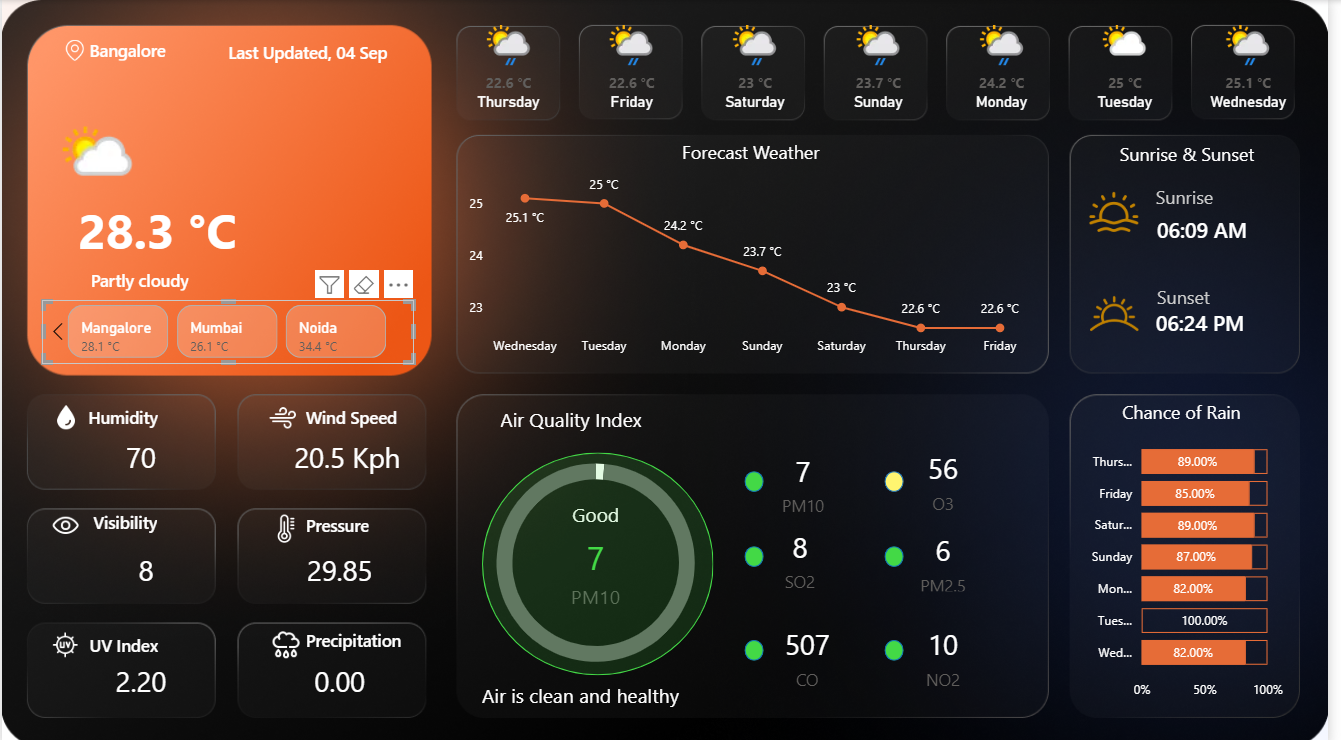

What the dashboard file says about the page in this screenshot:
{"tool":"powerbi","page":{"name":"Page 2","canvas":[1280,720],"ordinal":0},"visuals":[{"type":"advancedSlicerVisual","fields":{"Values":["Location.location.name"]},"box":[38.2,289.3,359.5,61.6],"z":0},{"type":"shape","box":[84.9,30.8,94.8,33.2],"z":1000},{"type":"shape","box":[67.7,189.6,165,64],"z":1000,"group":"g1"},{"type":"shape","box":[217.9,33.2,179.7,33.2],"z":2000},{"type":"shape","box":[1114.3,200.2,119.9,42.1],"z":2000,"group":"g2"},{"type":"shape","box":[85.4,253.4,248.7,33.2],"z":2000,"group":"g1"},{"type":"image","box":[55.4,33.2,29.5,29.5],"z":3000},{"type":"cardVisual","fields":{"Data":["Min(Current.current.condition.icon)"]},"box":[25.9,93.6,124.3,107.1],"z":4000},{"type":"group","id":"g1","title":"Group 1","box":[67.7,189.6,265.9,97.2],"z":5000},{"type":"image","box":[38.2,487.5,45.5,39.4],"z":6000},{"type":"shape","box":[88.6,487.5,82.5,33.2],"z":7000},{"type":"shape","box":[83.7,386.5,82.5,33.2],"z":8000},{"type":"image","box":[44.3,377.9,34.5,50.5],"z":9000},{"type":"image","box":[253.6,600.7,41.9,43.1],"z":10000},{"type":"image","box":[256.1,486.2,36.9,48],"z":11000},{"type":"image","box":[43.1,600.7,35.7,43.1],"z":12000},{"type":"image","box":[248.7,385.3,44.3,36.9],"z":13000},{"type":"shape","box":[293,385.3,104.6,34.5],"z":14000},{"type":"shape","box":[293,489.9,104.6,34.5],"z":15000},{"type":"shape","box":[84.9,605.7,82.5,33.2],"z":16000},{"type":"shape","box":[293,600.7,104.6,34.5],"z":17000},{"type":"card","fields":{"Values":["Sum(Current.current.humidity)"]},"box":[77.8,418.4,111.6,48.5],"z":18000},{"type":"card","fields":{"Values":["Current.Wind_Speed"]},"box":[270.2,418.4,126.3,48.5],"z":19000},{"type":"card","fields":{"Values":["Sum(Current.current.pressure_in)"]},"box":[270.2,527.1,111.6,48.5],"z":20000},{"type":"card","fields":{"Values":["Sum(Current.current.vis_km)"]},"box":[83.7,527.1,111.6,48.5],"z":21000},{"type":"card","fields":{"Values":["Sum(Current.current.uv)"]},"box":[77.8,634.3,111.6,48.5],"z":22000},{"type":"card","fields":{"Values":["Sum(Current.current.precip_in)"]},"box":[270.2,634.3,111.6,48.5],"z":23000},{"type":"lineChart","title":"Forecast Weather","fields":{"Y":["Sum(Forecast_Day.forecast.forecastday.day.avgtemp_c)"],"Category":["Forecast_Day.Day_Name"]},"box":[445.9,135.4,552.6,216.6],"z":24000},{"type":"advancedSlicerVisual","fields":{"Values":["Forecast_Day.Day_Name"]},"box":[428.7,10.3,838.4,114.5],"z":25000},{"type":"shape","box":[1056.4,131.7,173.9,32.9],"z":26000},{"type":"group","id":"g2","title":"Group 2","box":[1113,173.9,121.2,160.7],"z":27000},{"type":"image","box":[1027.4,266.1,90.9,72.4],"z":28000},{"type":"shape","box":[1113,289.8,119.9,44.8],"z":28000,"group":"g2"},{"type":"image","box":[1035.3,176.5,76.4,56.6],"z":29000},{"type":"shape","box":[1114.3,270.1,80.3,31.6],"z":29000,"group":"g2"},{"type":"shape","box":[1113,173.9,80.3,31.6],"z":30000,"group":"g2"},{"type":"hundredPercentStackedBarChart","title":"Chance of Rain","fields":{"Category":["Forecast_Day.Day_Name"],"Y":["Sum(Forecast_Day.forecast.forecastday.day.daily_chance_of_rain)","_Measures.Left_value_rain"]},"box":[1035.3,385.9,206.5,297.6],"z":30000},{"type":"shape","box":[445.8,387.4,207.9,34.2],"z":31000},{"type":"card","fields":{"Values":["Sum(Current.current.air_quality.o3)"]},"box":[861.6,423,94,81.2],"z":32000},{"type":"card","fields":{"Values":["Sum(Current.current.air_quality.no2)"]},"box":[861.6,601,94,66.9],"z":33000},{"type":"card","fields":{"Values":["Sum(Current.current.air_quality.pm2_5)"]},"box":[861.6,511.3,94,64.1],"z":34000},{"type":"card","fields":{"Values":["Sum(Current.current.air_quality.pm10)"]},"box":[726.3,425.8,94,81.2],"z":35000},{"type":"card","fields":{"Values":["Sum(Current.current.air_quality.co)"]},"box":[743.4,599.6,68.4,68.4],"z":36000},{"type":"card","fields":{"Values":["Sum(Current.current.air_quality.so2)"]},"box":[734.8,504.1,71.2,71.2],"z":37000},{"type":"shape","box":[716.3,454.3,18.5,19.9],"z":38000},{"type":"shape","box":[716.3,526.9,18.5,19.9],"z":39000},{"type":"shape","box":[716.3,618.1,18.5,19.9],"z":40000},{"type":"shape","box":[851.6,454.3,18.5,19.9],"z":41000},{"type":"shape","box":[851.6,526.9,18.5,19.9],"z":42000},{"type":"shape","box":[851.6,618.1,18.5,19.9],"z":43000},{"type":"card","fields":{"Values":["Sum(Current.current.air_quality.pm10)"]},"box":[521.2,484.2,104,111.1],"z":44000},{"type":"donutChart","fields":{"Y":["Sum(Current.current.air_quality.pm10)","_Measures.Left_value_PM10"]},"box":[434.4,418.7,277.7,249.2],"z":45000},{"type":"shape","box":[462.8,437.2,223.6,215],"z":46000},{"type":"shape","box":[462.8,643.7,294.8,54.1],"z":47000}]}

Visuals, with their boxes in screenshot pixels (x1, y1, x2, y2), scaled from the page's 1280x720 canvas onto the 1341x740 screenshot:
advancedSlicerVisual - Location.location.name: [40,297,417,361]
shape: [89,32,188,66]
shape: [71,195,244,261]
shape: [228,34,417,68]
shape: [1167,206,1293,249]
shape: [89,260,350,295]
image: [58,34,89,64]
cardVisual - Min(Current.current.condition.icon): [27,96,157,206]
"Group 1" group: [71,195,349,295]
image: [40,501,88,542]
shape: [93,501,179,535]
shape: [88,397,174,431]
image: [46,388,83,440]
image: [266,617,310,662]
image: [268,500,307,549]
image: [45,617,83,662]
image: [261,396,307,434]
shape: [307,396,417,431]
shape: [307,504,417,539]
shape: [89,623,175,657]
shape: [307,617,417,653]
card - Sum(Current.current.humidity): [82,430,198,480]
card - Current.Wind_Speed: [283,430,415,480]
card - Sum(Current.current.pressure_in): [283,542,400,592]
card - Sum(Current.current.vis_km): [88,542,205,592]
card - Sum(Current.current.uv): [82,652,198,702]
card - Sum(Current.current.precip_in): [283,652,400,702]
"Forecast Weather" lineChart: [467,139,1046,362]
advancedSlicerVisual - Forecast_Day.Day_Name: [449,11,1327,128]
shape: [1107,135,1289,169]
"Group 2" group: [1166,179,1293,344]
image: [1076,273,1172,348]
shape: [1166,298,1292,344]
image: [1085,181,1165,240]
shape: [1167,278,1252,310]
shape: [1166,179,1250,211]
"Chance of Rain" hundredPercentStackedBarChart: [1085,397,1301,702]
shape: [467,398,685,433]
card - Sum(Current.current.air_quality.o3): [903,435,1001,518]
card - Sum(Current.current.air_quality.no2): [903,618,1001,686]
card - Sum(Current.current.air_quality.pm2_5): [903,526,1001,591]
card - Sum(Current.current.air_quality.pm10): [761,438,859,521]
card - Sum(Current.current.air_quality.co): [779,616,850,687]
card - Sum(Current.current.air_quality.so2): [770,518,844,591]
shape: [750,467,770,487]
shape: [750,542,770,562]
shape: [750,635,770,656]
shape: [892,467,912,487]
shape: [892,542,912,562]
shape: [892,635,912,656]
card - Sum(Current.current.air_quality.pm10): [546,498,655,612]
donutChart - Sum(Current.current.air_quality.pm10) x _Measures.Left_value_PM10: [455,430,746,686]
shape: [485,449,719,670]
shape: [485,662,794,717]
